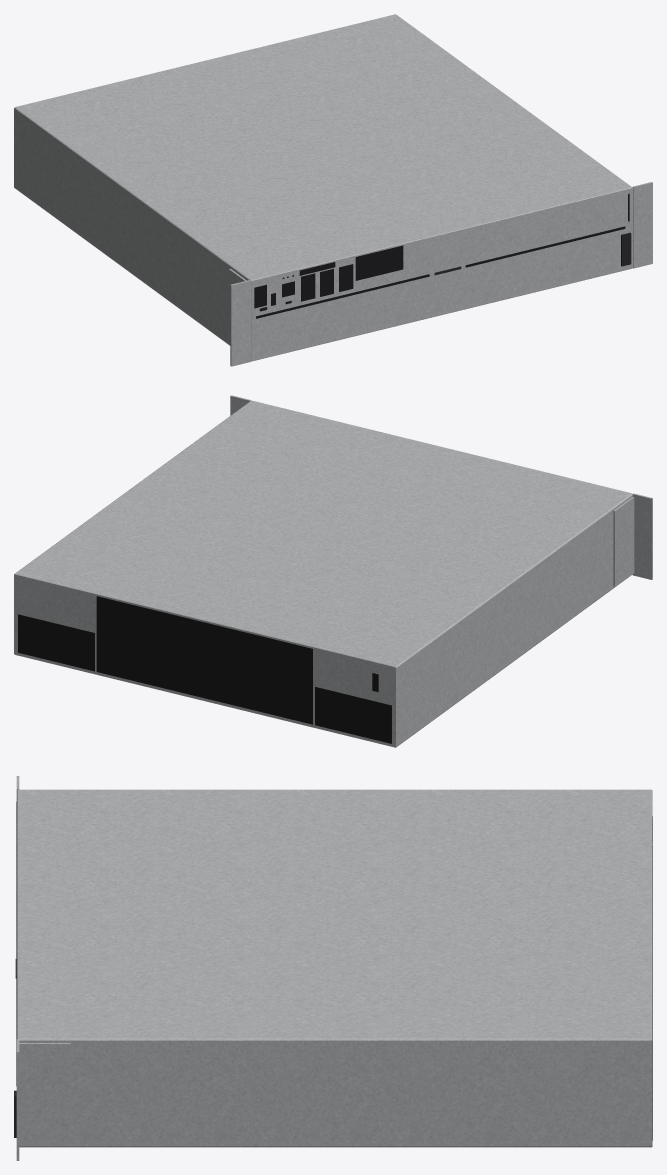
File: C8300-2N2S-4T2X.far.glb
The picture shows the model from 3 angles, top to bottom: view 1: azimuth 30°, elevation 25°; view 2: azimuth 150°, elevation 25°; view 3: azimuth 270°, elevation 25°; orthographic projection. The views are drawn at different scales.
Visible parts, largest first — view 1: Shell_far; view 2: Shell_far; view 3: Shell_far.
Boxes of the visible parts, <box> form: Shell_far: <box>14,14,652,366</box>; Shell_far: <box>14,395,652,747</box>; Shell_far: <box>14,776,652,1160</box>.
Bounding box in the file's own units: 0.4826 × 0.0889 × 0.4726.
Materials: 3 (2 with a texture image).
